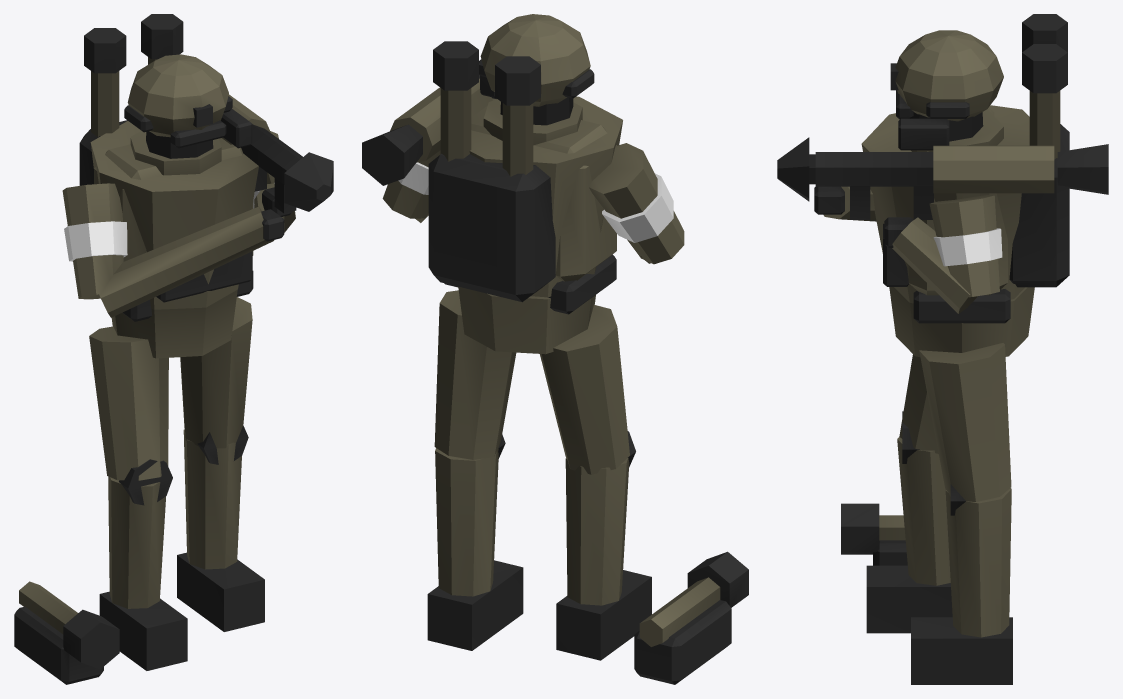
The model's file is ru-rpg-gunner.glb.
3 renders of one model, left to right at view 1: azimuth 30°, elevation 25°; view 2: azimuth 150°, elevation 25°; view 3: azimuth 270°, elevation 25°, orthographic. The views are drawn at different scales.
Visible parts, largest first — view 1: ru-rpg-gunner; view 2: ru-rpg-gunner; view 3: ru-rpg-gunner.
Part boxes in pixels (x1,y1,x2,y2): ru-rpg-gunner: (14, 14, 333, 684); ru-rpg-gunner: (362, 14, 748, 684); ru-rpg-gunner: (777, 14, 1108, 684).
Bounding box in the file's own units: 0.2597 × 0.5106 × 0.2504.
